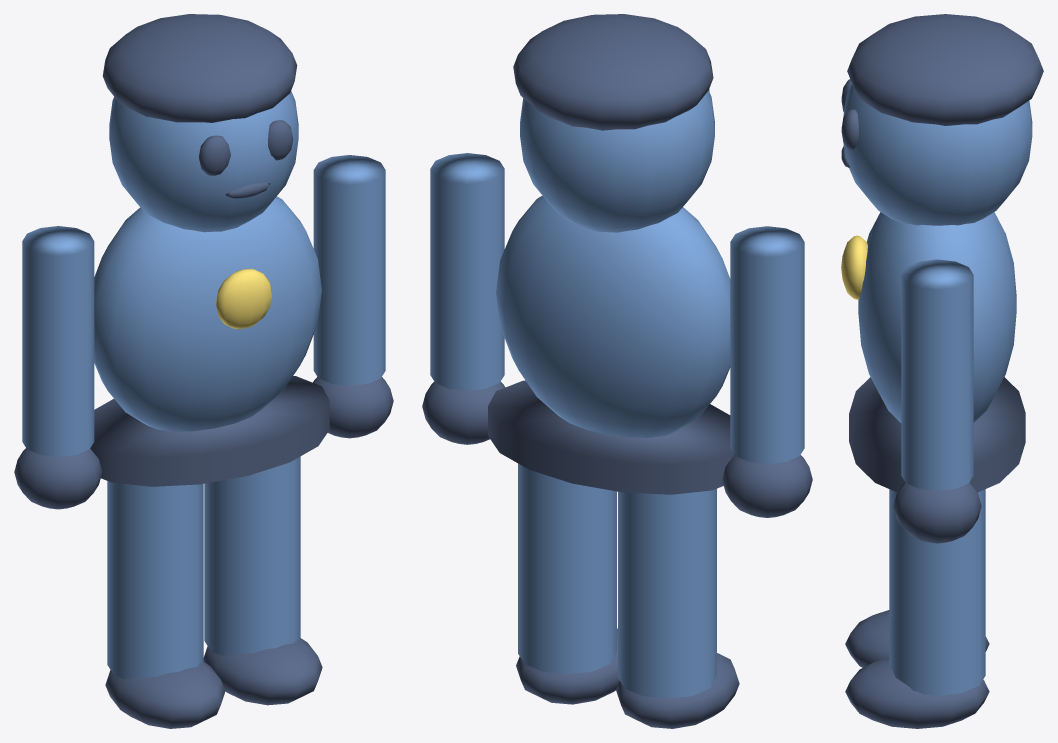
File: hero.glb
The picture shows the model from 3 angles, left to right: view 1: azimuth 30°, elevation 25°; view 2: azimuth 150°, elevation 25°; view 3: azimuth 270°, elevation 25°; orthographic projection. The views are drawn at different scales.
Visible parts, largest first — view 1: Torso, LegLeft, LegRight, Hair, Head, ArmLeft, ArmRight, Belt, BootLeft, BootRight, GloveLeft, GloveRight (+3 smaller); view 2: Torso, LegLeft, LegRight, Hair, Head, ArmLeft, ArmRight, Belt, GloveLeft, BootLeft, GloveRight, BootRight; view 3: Head, Hair, Torso, ArmRight, LegRight, Belt, BootRight, GloveRight, BootLeft, ChestEmblem, EyeRight.
Part boxes in pixels (<box>): Torso: <box>94,196,321,431</box>; LegLeft: <box>107,481,203,679</box>; LegRight: <box>204,456,300,656</box>; Hair: <box>102,14,297,122</box>; Head: <box>109,91,298,232</box>; ArmLeft: <box>22,226,94,456</box>; ArmRight: <box>313,155,385,385</box>; Belt: <box>90,376,329,486</box>; BootLeft: <box>105,662,225,728</box>; BootRight: <box>203,638,322,705</box>; GloveLeft: <box>14,448,102,509</box>; GloveRight: <box>313,377,393,438</box>; Torso: <box>496,195,730,437</box>; LegLeft: <box>618,488,716,698</box>; LegRight: <box>518,463,616,674</box>; Hair: <box>513,14,713,130</box>; Head: <box>520,90,714,232</box>; ArmLeft: <box>730,226,804,463</box>; ArmRight: <box>430,153,504,390</box>; Belt: <box>488,380,734,494</box>; GloveLeft: <box>722,455,812,517</box>; BootLeft: <box>616,653,739,728</box>; GloveRight: <box>422,381,505,444</box>; BootRight: <box>516,628,619,704</box>; Head: <box>843,84,1032,225</box>; Hair: <box>847,14,1043,125</box>; Torso: <box>858,212,1016,422</box>; ArmRight: <box>901,259,973,490</box>; LegRight: <box>889,489,985,695</box>; Belt: <box>849,377,1025,492</box>; BootRight: <box>845,657,989,728</box>; GloveRight: <box>893,482,981,543</box>; BootLeft: <box>845,610,989,667</box>; ChestEmblem: <box>841,235,867,299</box>; EyeRight: <box>841,109,858,150</box>.
Bounding box in the file's own units: 1.06 × 1.83 × 0.505.
